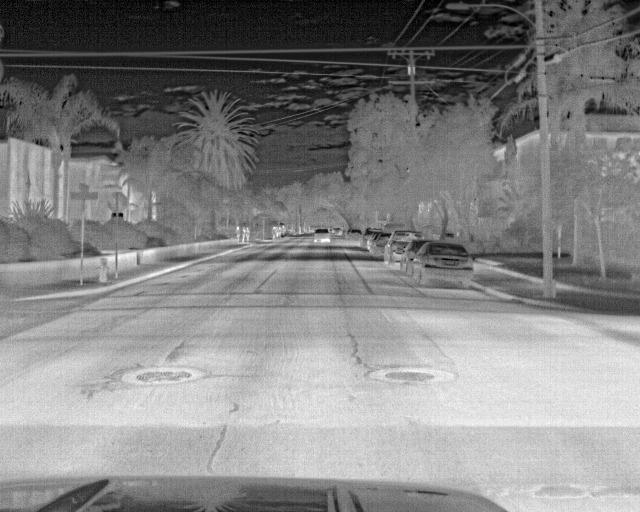car: (410, 242, 475, 291), (385, 228, 423, 264), (401, 239, 425, 279), (371, 233, 392, 255), (361, 226, 379, 249), (313, 225, 331, 243), (344, 228, 362, 244)
